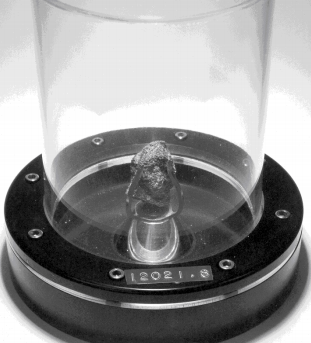Basalt: (133, 134, 182, 211)
